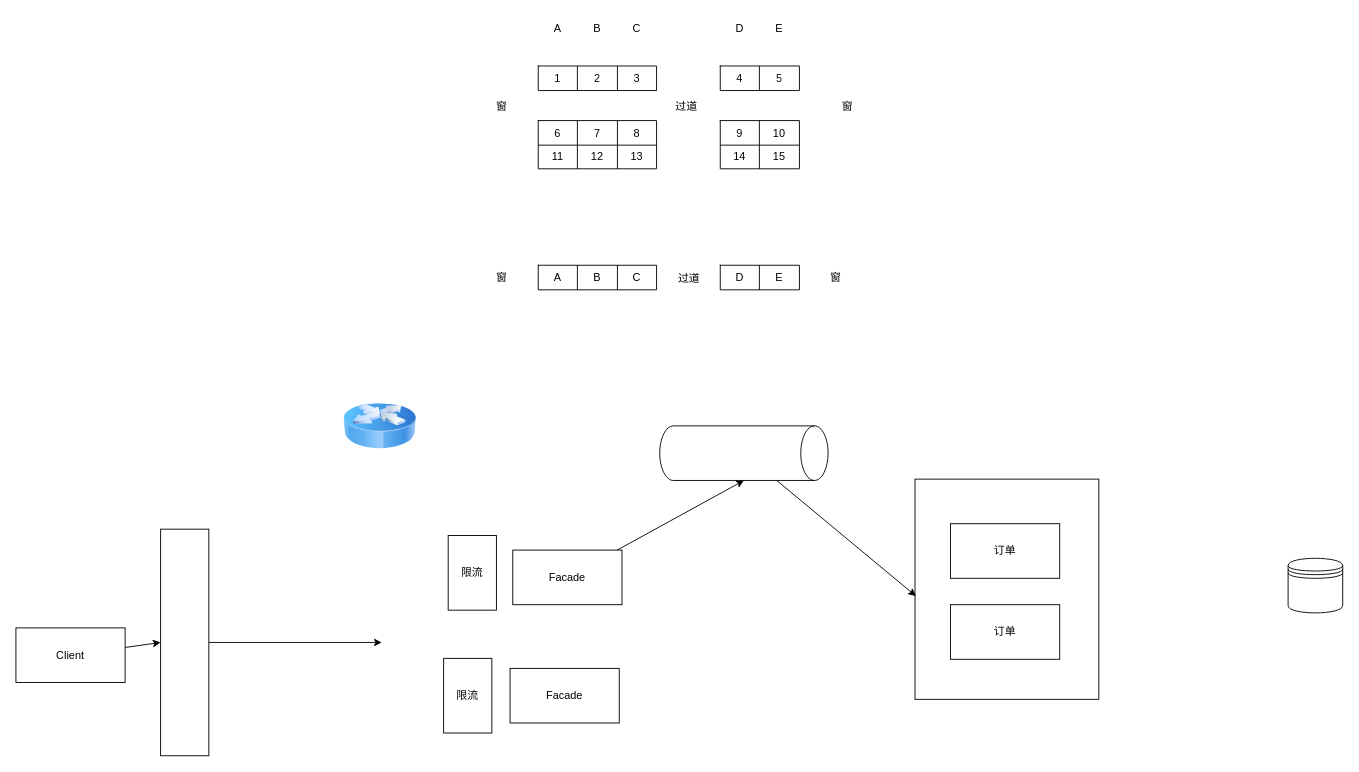
The diagram is 1359 pixels wide and 772 high, and some of its shapes have lost their labels. The shapes that lost their labels are listed below. From the top down, each one's centre as x and y in pixels, then its label:
At [743,452]: "MQ".
At [184,642]: "DNS负载均衡".
